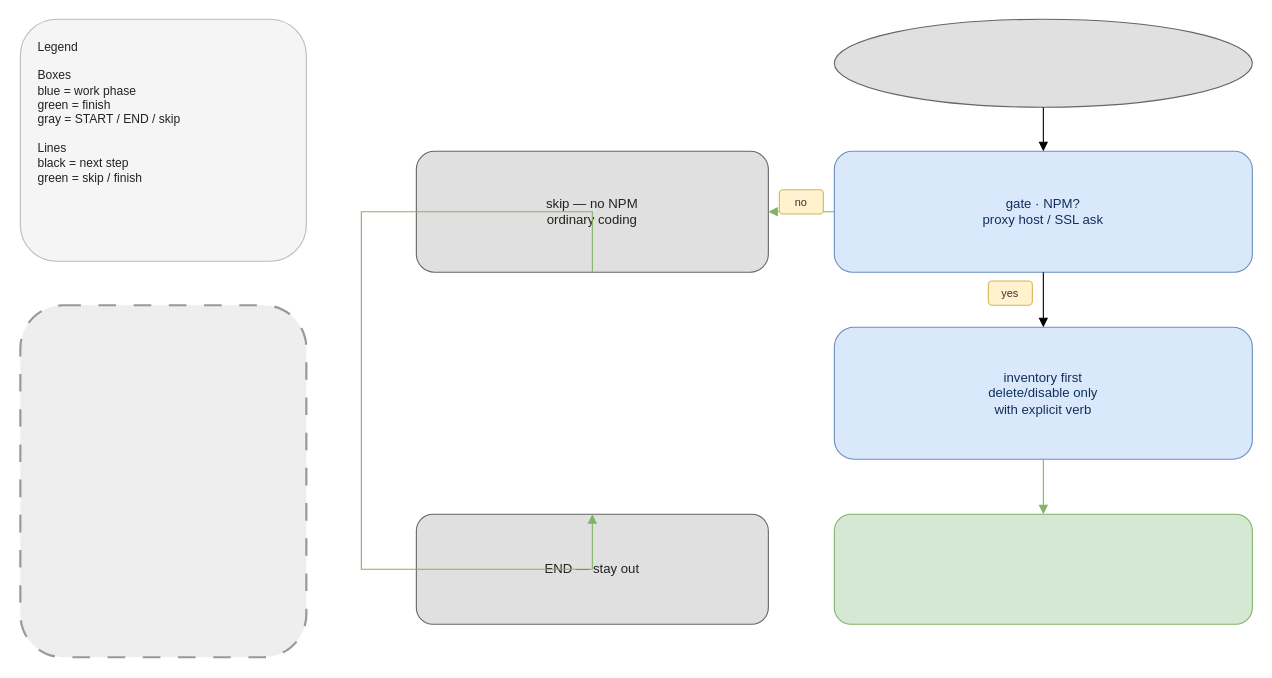
Image size: 1272x678. Some labels were removed from this diagram. The centre of each missing label's shape, as x and y in pixels:
AMBIENT — NPM Never invent host · cert id Prefer update-in-place: the point at 163,481
END — domain + upstream + SSL: the point at 1042,568
START — user ask: the point at 1042,62
